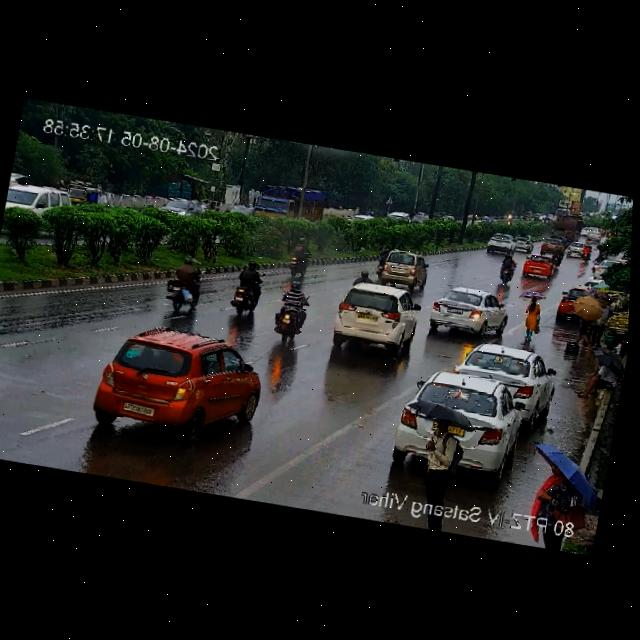car: (86, 319, 269, 447), (388, 363, 544, 481), (452, 338, 559, 411), (329, 277, 426, 356), (423, 284, 508, 338), (371, 246, 430, 292), (4, 181, 67, 222), (483, 228, 535, 260), (521, 253, 560, 282), (484, 237, 520, 257), (536, 238, 565, 258), (564, 239, 589, 259), (582, 230, 603, 247)
motorcycle: (266, 274, 315, 342), (159, 258, 210, 314), (224, 260, 268, 316), (281, 235, 321, 282), (492, 252, 518, 284)
person: (414, 413, 467, 500), (531, 459, 593, 529), (572, 348, 625, 403), (566, 293, 606, 349), (515, 298, 547, 354)
truck: (250, 173, 330, 229), (549, 213, 585, 244)
